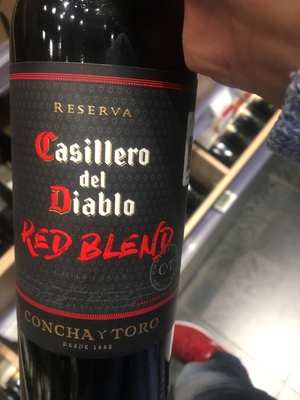casillero del diablo red blend: (10, 14, 198, 400)
